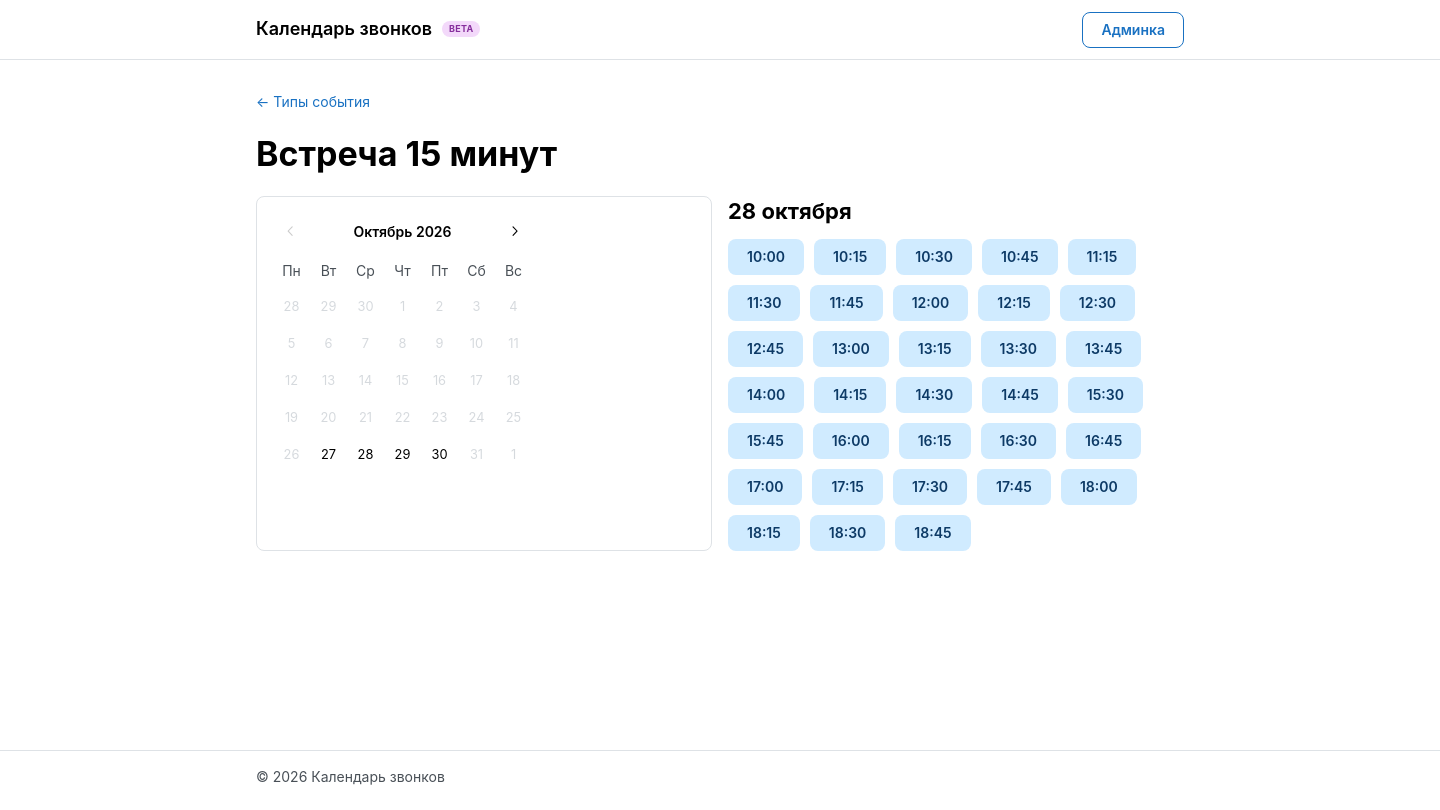
повторный клик по выбранному дню сбрасывает выбор — «Выберите дату в календаре»
Click the 2nd button "28".
click(366, 455)  # box [348,437,384,473]
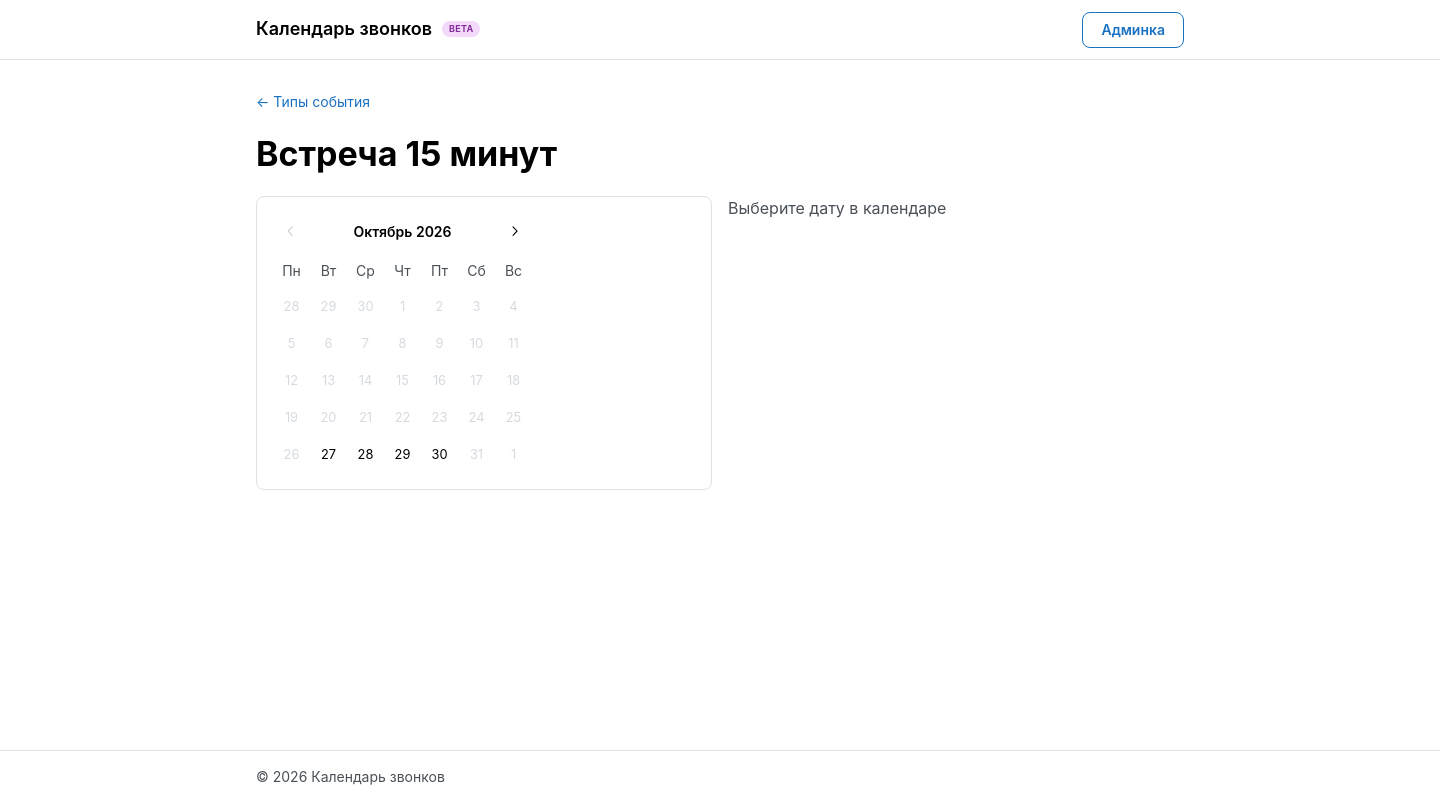
Now the text "Выберите дату в календаре" is shown, box [728,198,946,218]
Now the button "10:00" is gone
